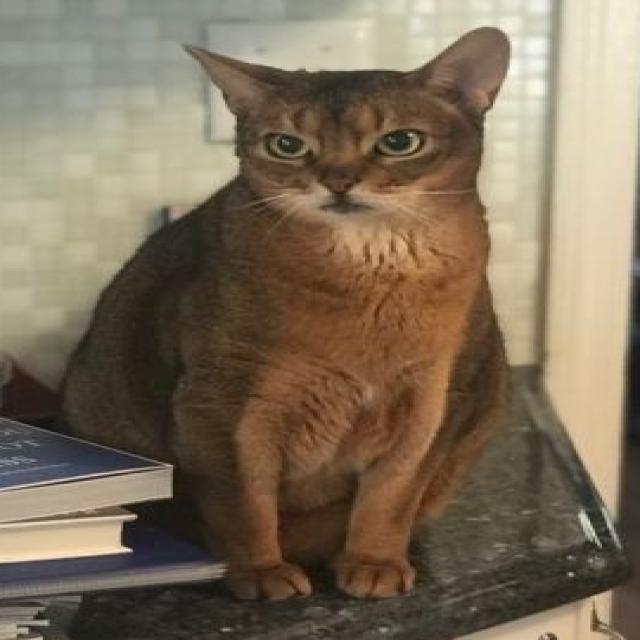Abyssinian: (52, 23, 550, 616)
